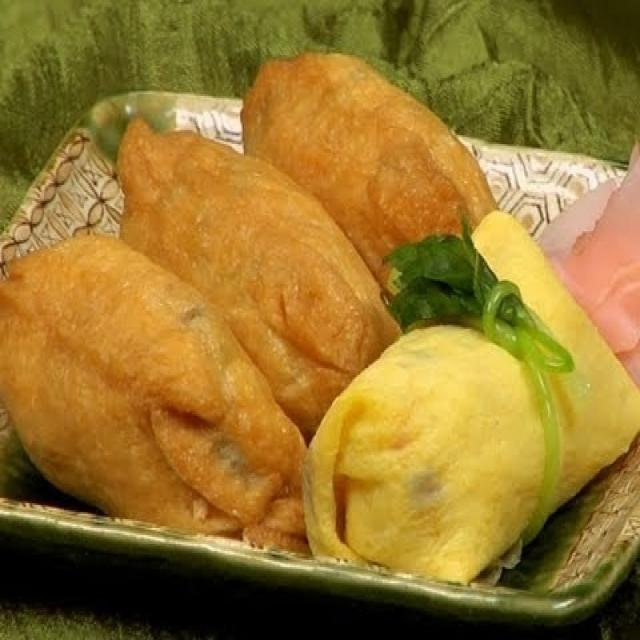寿司卷物: (5, 23, 636, 605)
